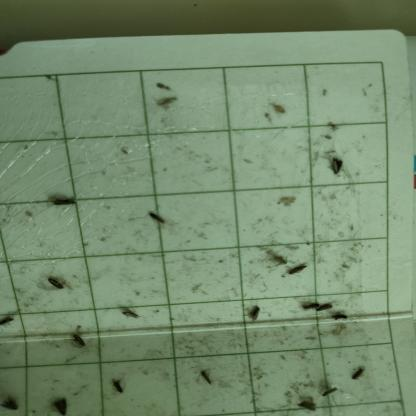prays_oleae: (42, 178, 80, 219), (45, 252, 73, 300), (284, 246, 313, 292), (239, 287, 267, 333), (142, 201, 170, 240), (192, 360, 218, 394), (346, 352, 370, 388), (66, 324, 90, 358), (0, 306, 22, 342), (314, 293, 342, 321), (326, 150, 346, 188), (0, 385, 25, 413), (292, 390, 318, 416), (318, 378, 343, 404), (104, 374, 132, 396), (51, 389, 74, 414), (303, 294, 321, 324), (124, 297, 138, 329), (329, 310, 352, 328)
